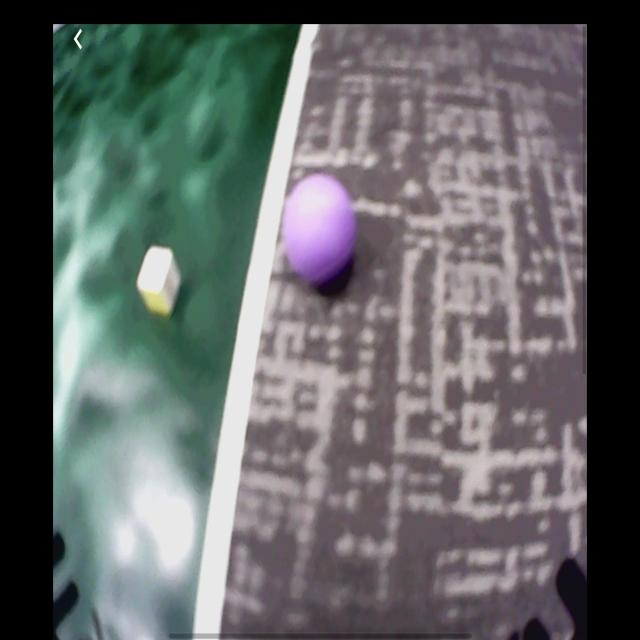ball: (280, 173, 356, 286)
